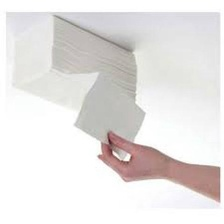tissue: (5, 12, 151, 165)
